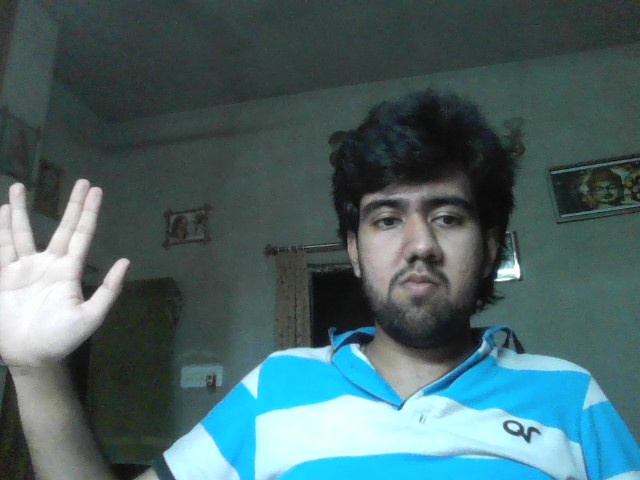LiveLong: (1, 178, 131, 362)
